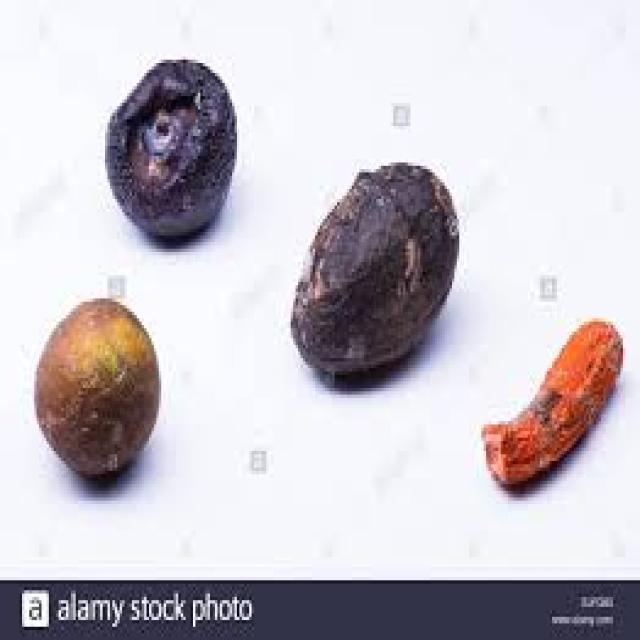biodegradable: (288, 159, 459, 385), (103, 56, 235, 239), (477, 318, 621, 484), (32, 295, 156, 471)
